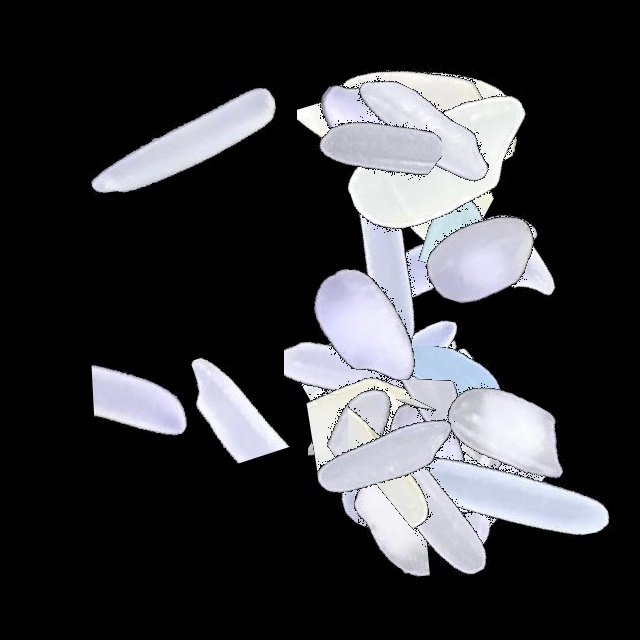Broken: (270, 0, 442, 250), (284, 294, 454, 544), (280, 100, 530, 269), (365, 289, 521, 539), (261, 350, 511, 501), (349, 314, 499, 564), (166, 259, 315, 509), (225, 437, 475, 585), (249, 291, 499, 438), (302, 346, 552, 491), (327, 297, 469, 547), (33, 327, 283, 458), (348, 302, 471, 552), (360, 348, 472, 598), (287, 379, 537, 491), (308, 338, 417, 588), (339, 165, 589, 271), (492, 130, 592, 380), (282, 421, 532, 519), (297, 18, 387, 268), (278, 399, 528, 488), (188, 170, 438, 246)
Full: (270, 314, 520, 564), (289, 350, 539, 600), (318, 136, 568, 386), (268, 360, 518, 610), (273, 265, 523, 515), (244, 289, 494, 539), (322, 384, 572, 634), (259, 148, 509, 398), (354, 358, 604, 608), (289, 335, 539, 585), (294, 0, 544, 250), (305, 290, 555, 540), (56, 15, 306, 265), (337, 322, 587, 572), (307, 324, 557, 574), (261, 295, 511, 545), (329, 343, 579, 593), (288, 0, 538, 250), (295, 339, 545, 589), (352, 133, 602, 383), (249, 0, 499, 250), (390, 371, 640, 621), (310, 390, 560, 640), (388, 305, 638, 555), (314, 40, 564, 290), (301, 2, 551, 252), (258, 333, 508, 583), (239, 201, 489, 451)
